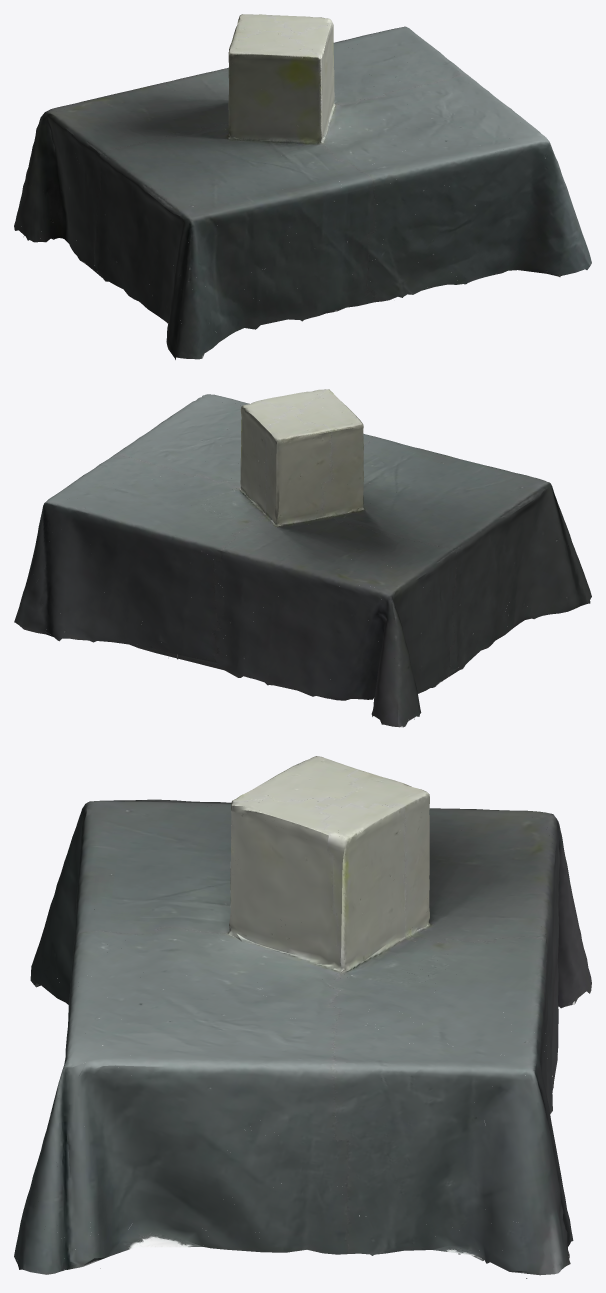
Rendered from 静物_几何体_正方体与衬布01_opt.glb.
3 views of the same model, one above another, from view 1: azimuth 30°, elevation 25°; view 2: azimuth 150°, elevation 25°; view 3: azimuth 270°, elevation 25° (orthographic). The views are drawn at different scales.
Parts seen in each view (by area): view 1: defaultMat, defaultMat_1; view 2: defaultMat, defaultMat_1; view 3: defaultMat, defaultMat_1.
Boxes of the visible parts, x1=… form: defaultMat: x1=14, y1=14, x2=591, y2=359; defaultMat_1: x1=18, y1=15, x2=584, y2=336; defaultMat: x1=14, y1=389, x2=591, y2=727; defaultMat_1: x1=25, y1=389, x2=582, y2=720; defaultMat: x1=15, y1=756, x2=591, y2=1278; defaultMat_1: x1=14, y1=757, x2=575, y2=1271.
Size of the model in its own units: 0.6154 by 0.3 by 0.4876.
1 material, 1 textured.
